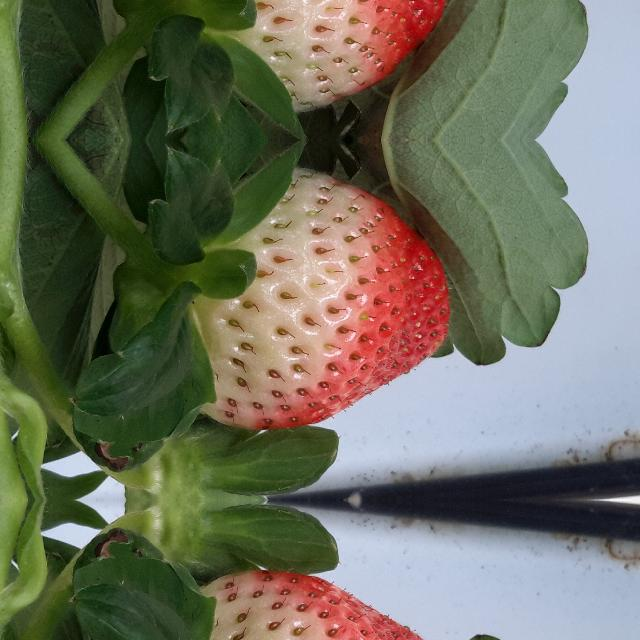Health_75: (190, 164, 448, 430), (190, 0, 447, 115), (190, 570, 447, 640)
